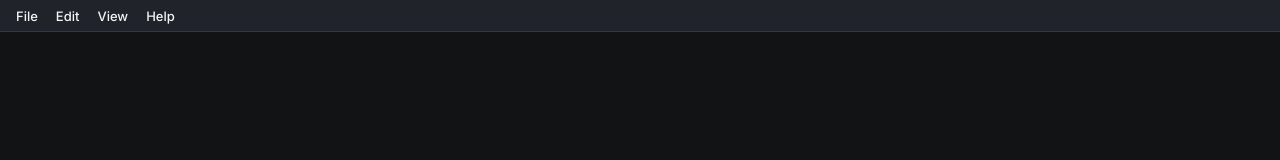
Scenario: BrowserAppMenu › does not put Settings under File (header gear owns it)
Click the menu item "File": [27, 16] box [8,4,46,26]
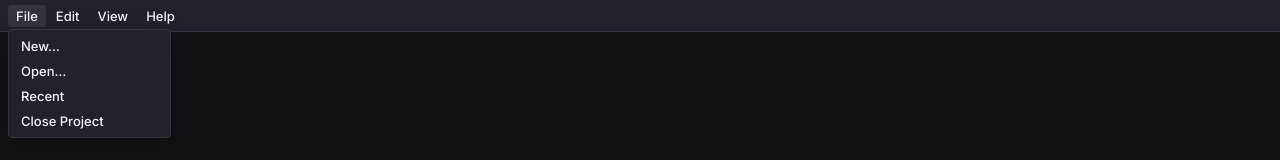
Now the menu item "New…" is shown, box [13,34,166,58]
